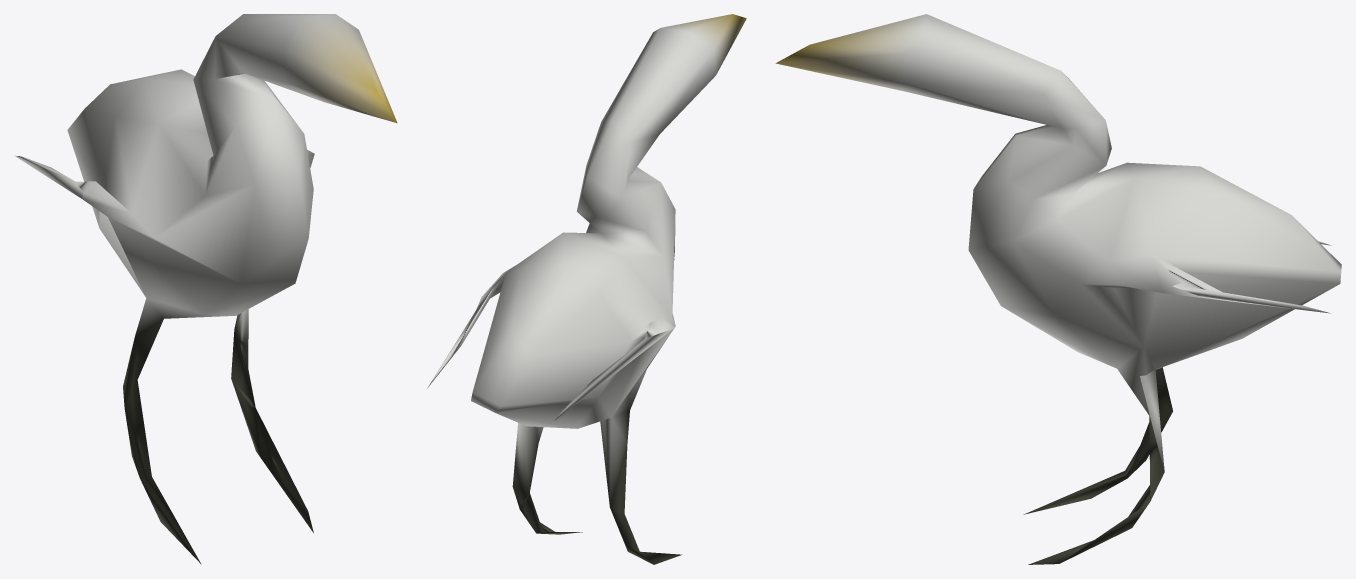
File: pond-heron-1.glb
The picture shows the model from 3 angles, left to right: view 1: azimuth 30°, elevation 25°; view 2: azimuth 150°, elevation 25°; view 3: azimuth 270°, elevation 25°; orthographic projection. The views are drawn at different scales.
Visible parts, largest first — view 1: pond-heron; view 2: pond-heron; view 3: pond-heron.
Part boxes in pixels (bbox=[...]): pond-heron: bbox=[14, 14, 397, 564]; pond-heron: bbox=[427, 14, 746, 564]; pond-heron: bbox=[775, 14, 1341, 564].
Size of the model in its own units: 0.1992 by 0.5019 by 0.4941.
